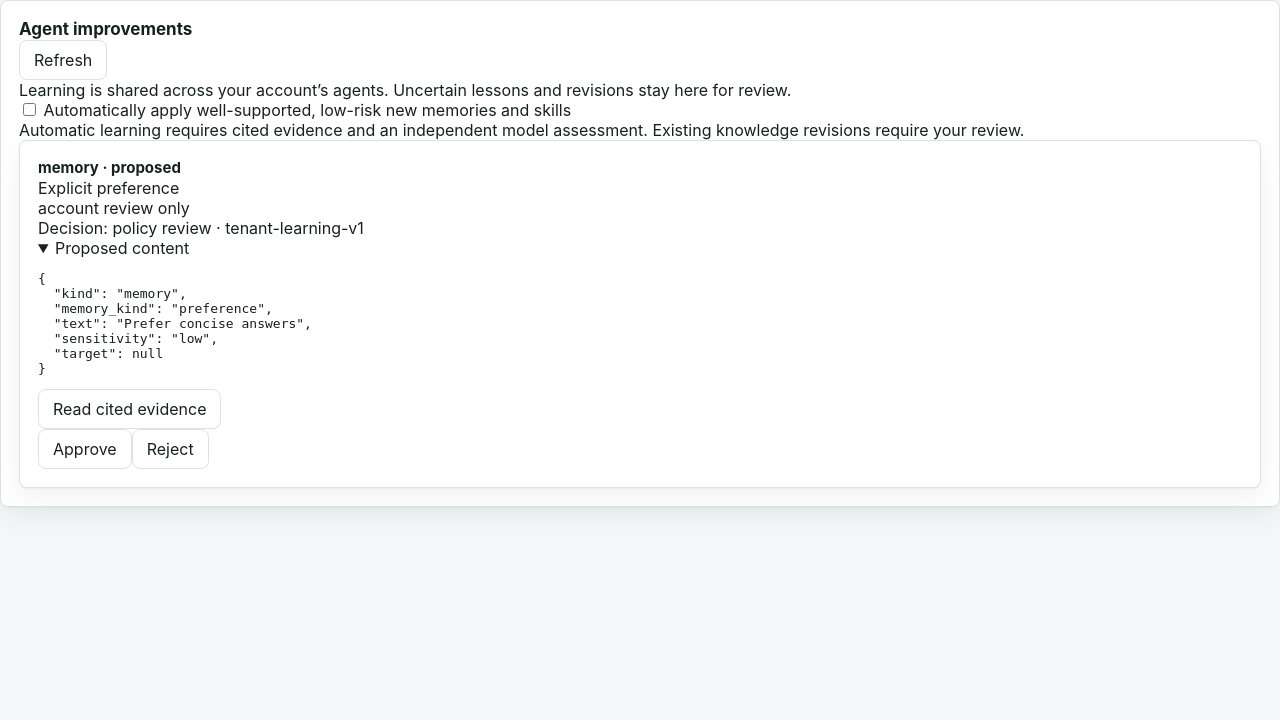
Test case: AgentImprovements › keeps a stale review visible and shows its conflict
The image size is (1280, 720).
Check: the text "Explicit preference" is shown, box [38,178,179,198]
Click the button "Approve" at [85, 449], box [38,429,132,469]
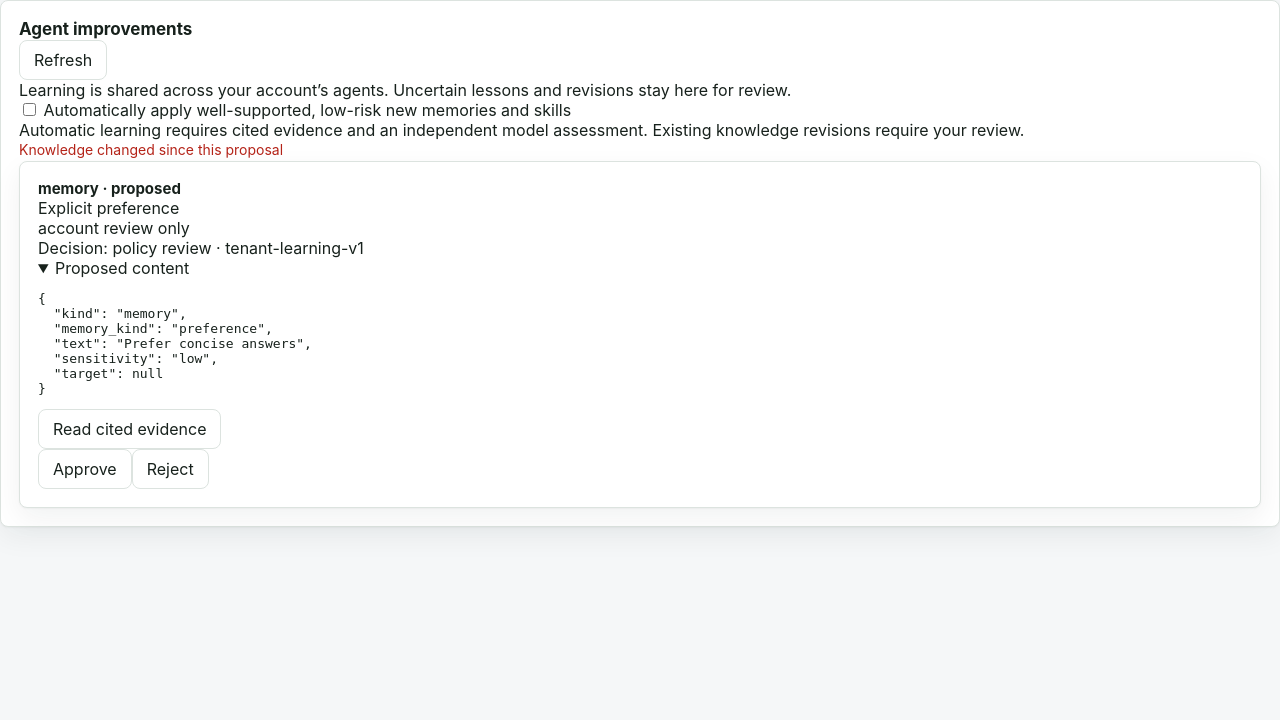
Check: the button "Approve" is enabled, box [38,449,132,489]
Check: the message reads "Knowledge changed since this proposal", box [19,141,283,158]
